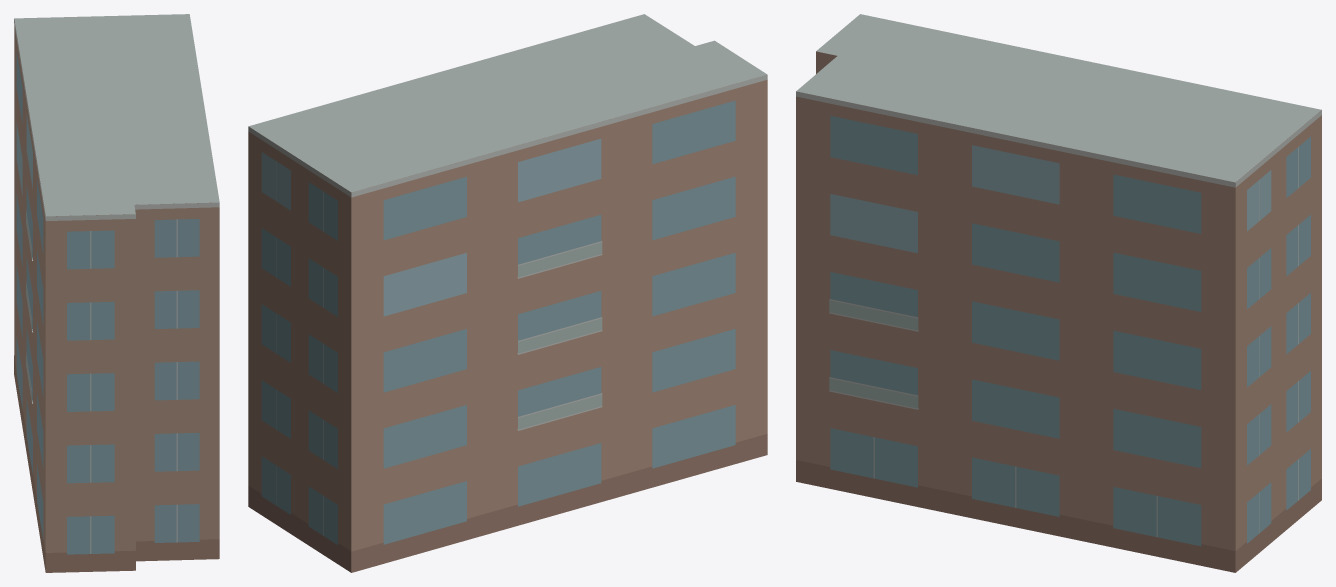
File: survey-upis-33008229.glb
3 views of the same model, side by side, from view 1: azimuth 30°, elevation 25°; view 2: azimuth 150°, elevation 25°; view 3: azimuth 270°, elevation 25° (orthographic). The views are drawn at different scales.
Parts seen in each view (by area): view 1: survey-upis-33008229.tmp; view 2: survey-upis-33008229.tmp; view 3: survey-upis-33008229.tmp.
Boxes of the visible parts, <box> form: survey-upis-33008229.tmp: <box>14,14,219,572</box>; survey-upis-33008229.tmp: <box>248,14,767,572</box>; survey-upis-33008229.tmp: <box>796,14,1321,572</box>.
Size of the model in its own units: 16.95 by 18.3 by 22.34.
